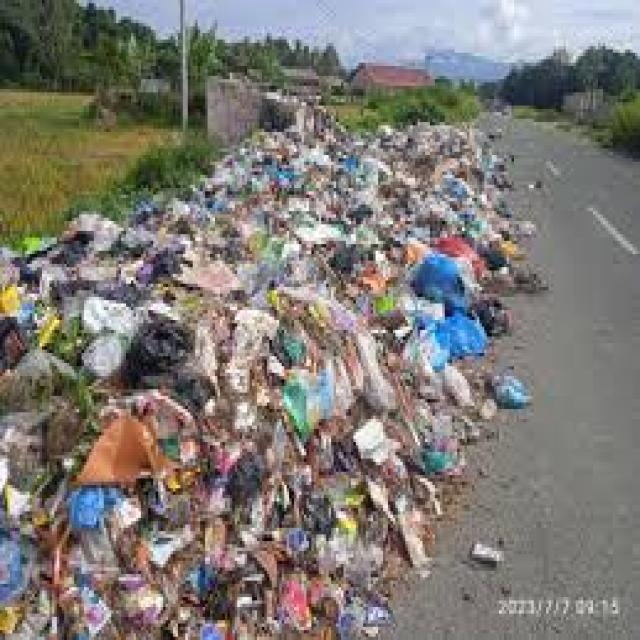trash: (0, 57, 553, 640)
